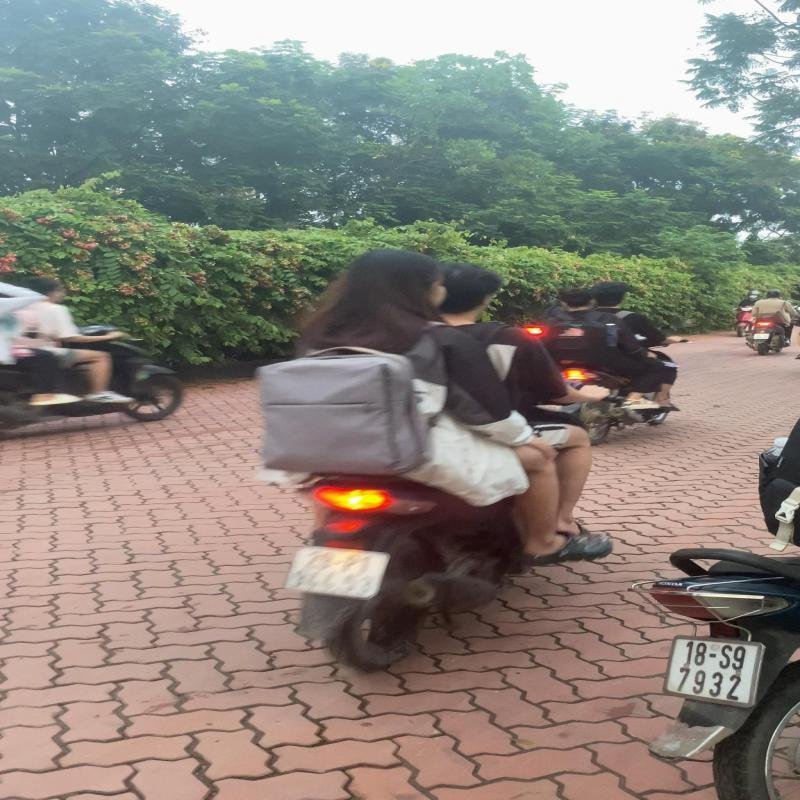licenseplate: (286, 546, 390, 599)
motorcyclist: (249, 246, 630, 675)
nohelmet: (342, 250, 446, 308), (436, 260, 504, 316)
